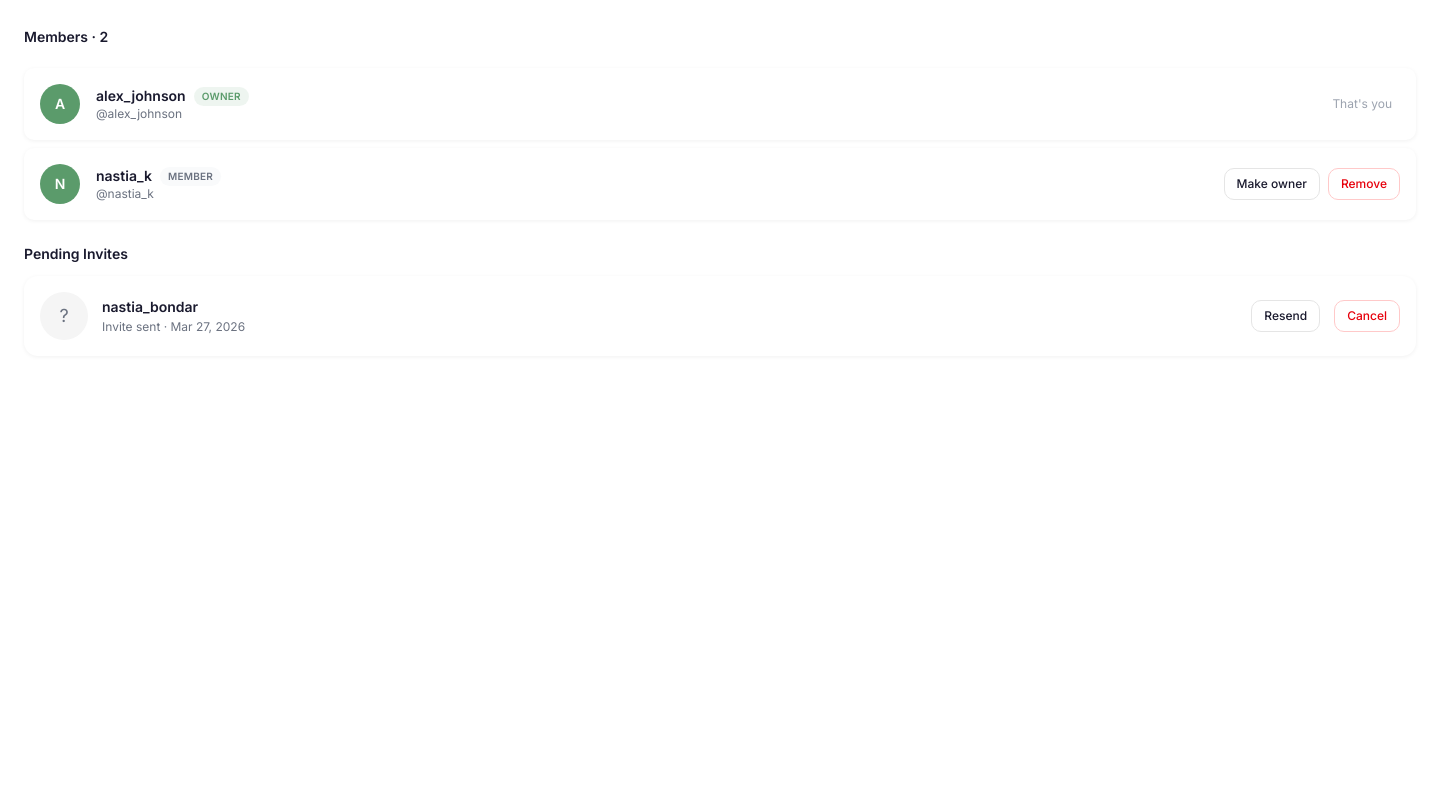
Test: LobbyMemberList › shows an inline error and keeps the dialog open when removing a member fails
The width and height of the screenshot is (1440, 810).
Expected: the text "nastia_k" is shown, x1=96 y1=166 x2=152 y2=186
Click the button "Remove": (1364, 184) x1=1328 y1=168 x2=1400 y2=200
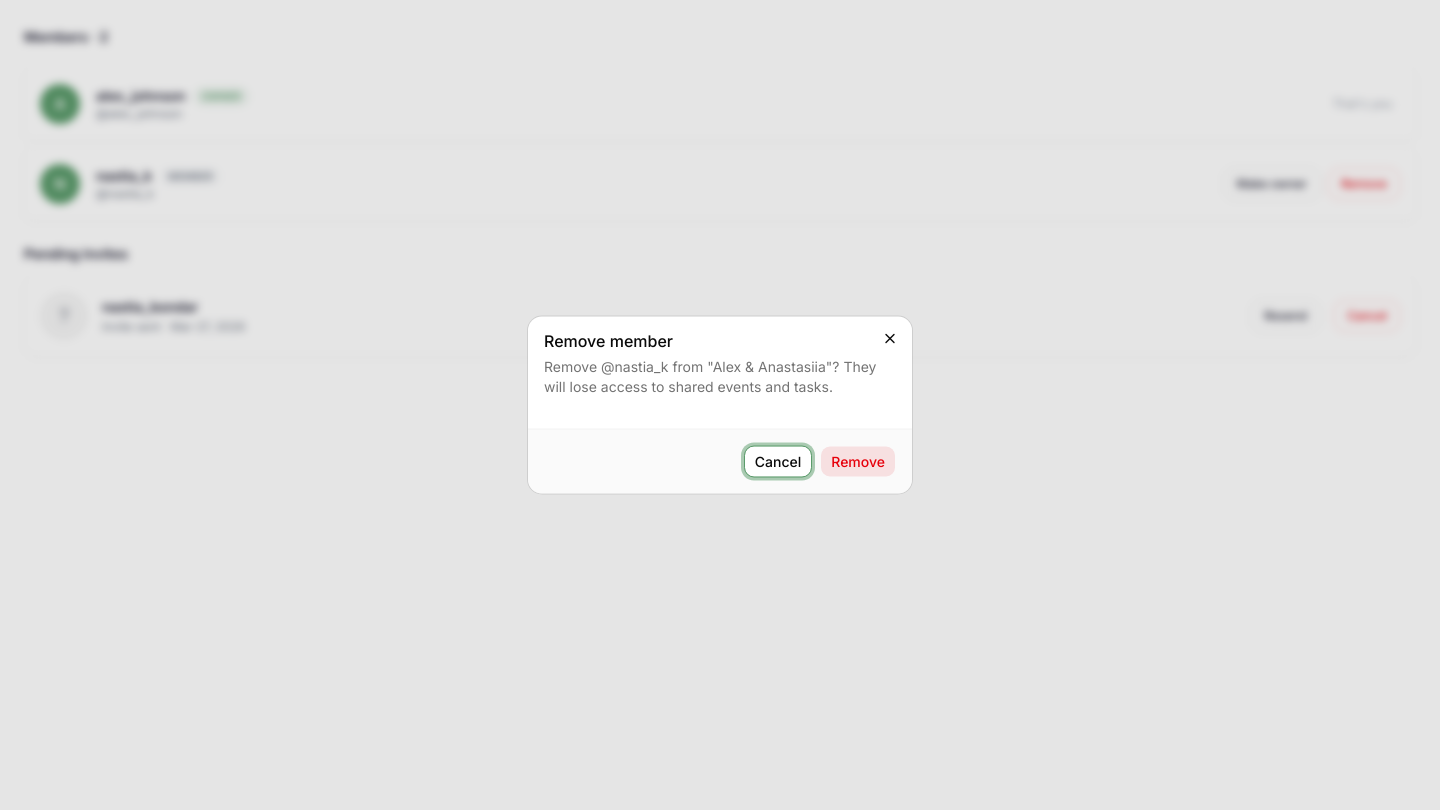
Click the button "Remove": (858, 462) x1=820 y1=446 x2=896 y2=478
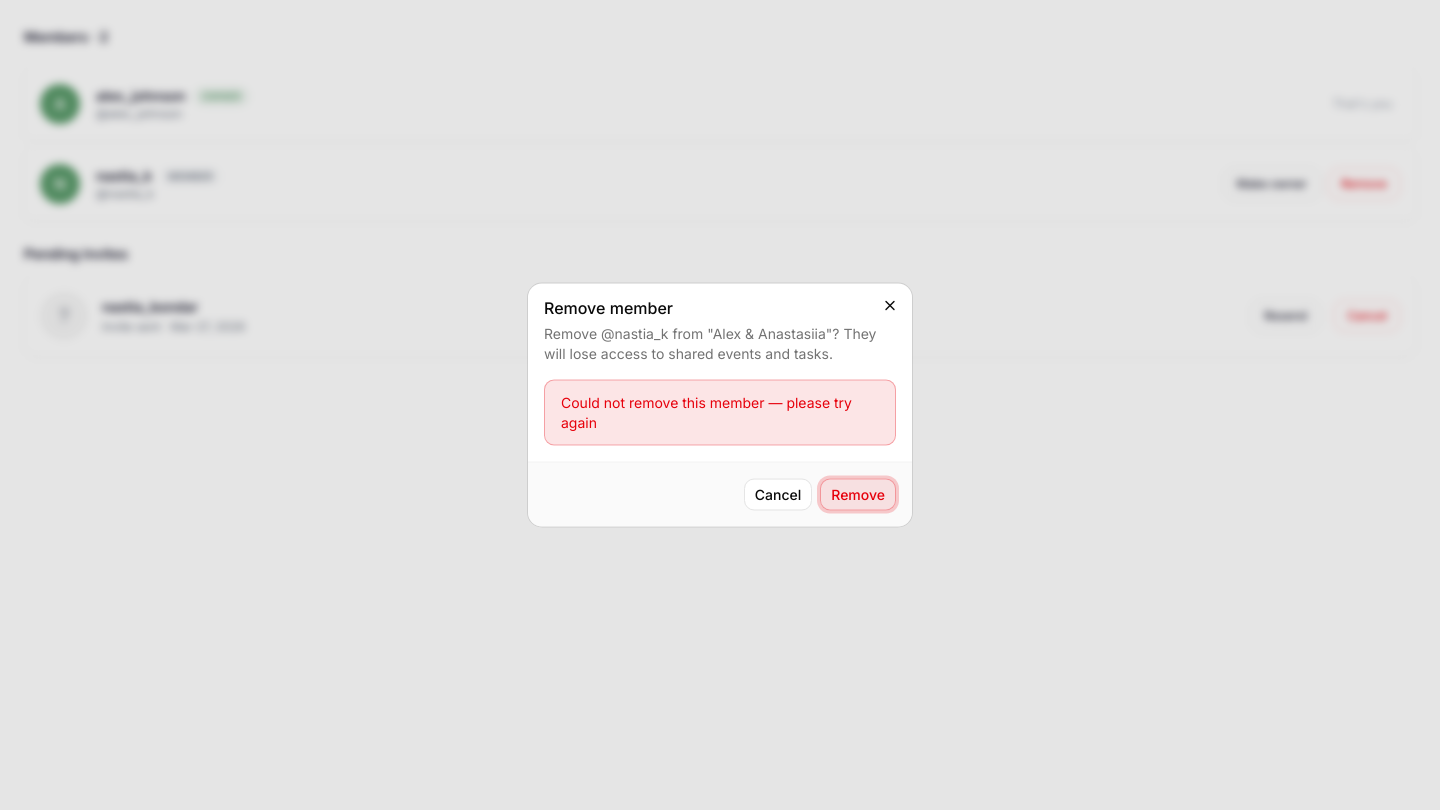
Result: the text "Could not remove this member — please try again" is shown at x1=561 y1=392 x2=879 y2=432
